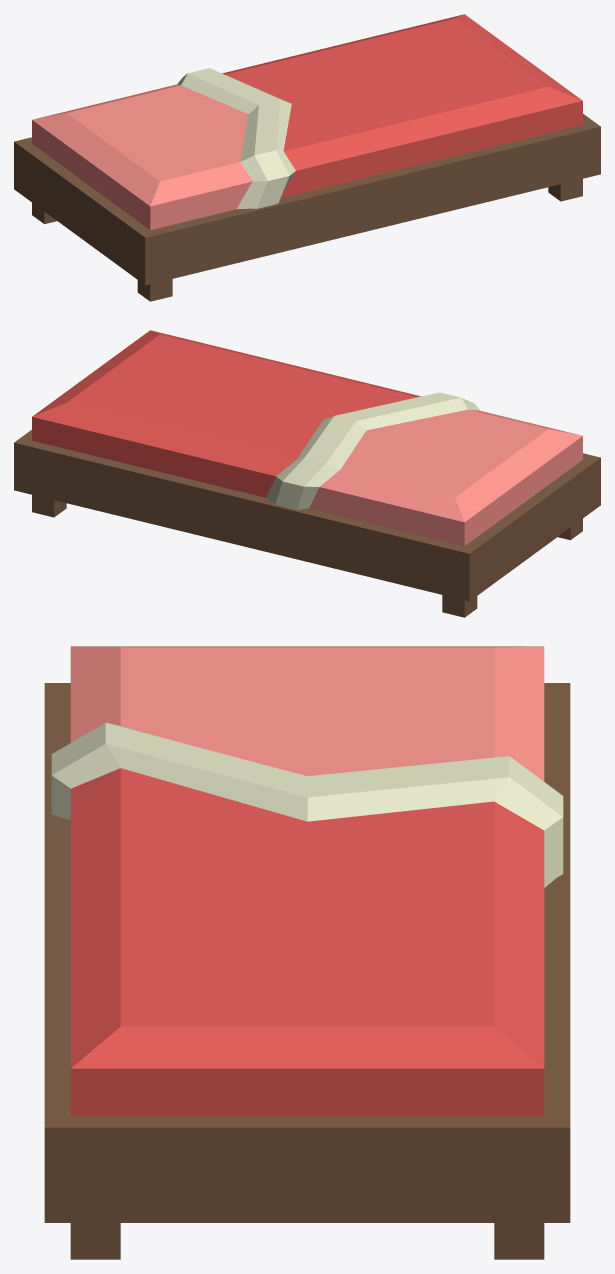
The model's file is UnmadeBed.fbx.
The picture shows the model from 3 angles, top to bottom: view 1: azimuth 30°, elevation 25°; view 2: azimuth 150°, elevation 25°; view 3: azimuth 270°, elevation 25°; orthographic projection. The views are drawn at different scales.
Parts seen in each view (by area): view 1: Cube; view 2: Cube; view 3: Cube.
Part boxes in pixels (x1,y1,x2,y2): Cube: (14,14,600,301); Cube: (14,330,600,617); Cube: (44,646,570,1259).
Bounding box in the file's own units: 1000 × 236 × 500.
